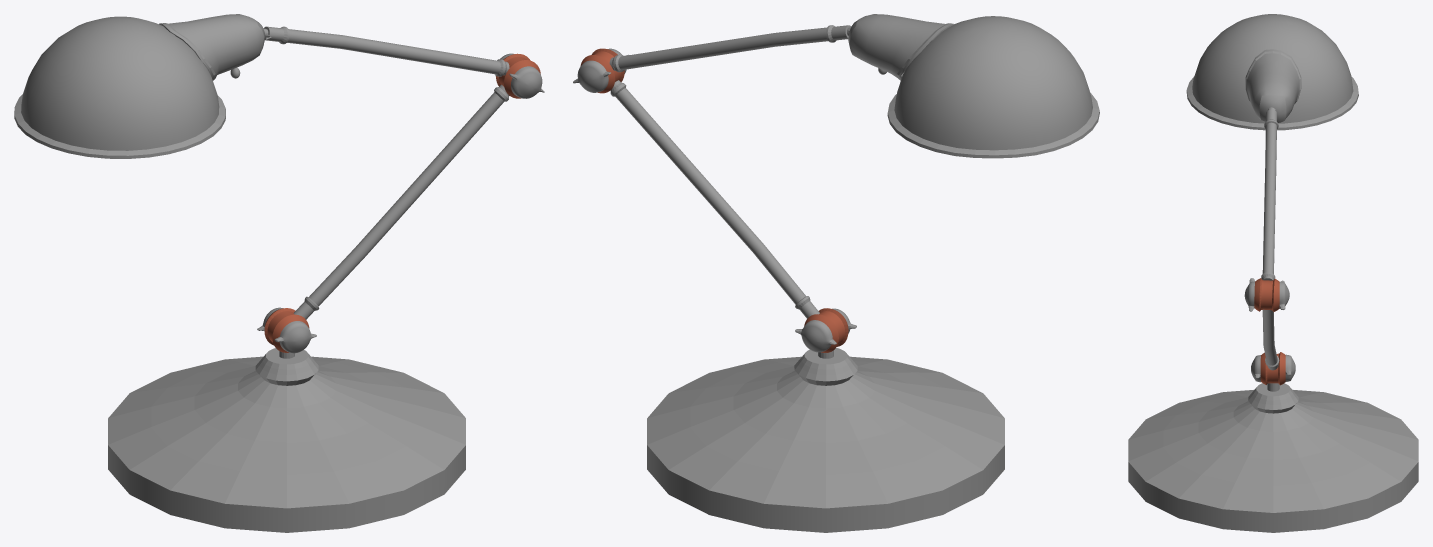
File: lamp.FBX
3 renders of one model, left to right at view 1: azimuth 30°, elevation 25°; view 2: azimuth 150°, elevation 25°; view 3: azimuth 270°, elevation 25°, orthographic. The views are drawn at different scales.
Parts seen in each view (by area): view 1: Cylinder001; view 2: Cylinder001; view 3: Cylinder001.
Part boxes in pixels (left/top/right/bottom): Cylinder001: left=14, top=14, right=544, bottom=532; Cylinder001: left=573, top=14, right=1099, bottom=532; Cylinder001: left=1128, top=14, right=1418, bottom=532.
Bounding box in the file's own units: 38.49 × 34.27 × 23.57.
